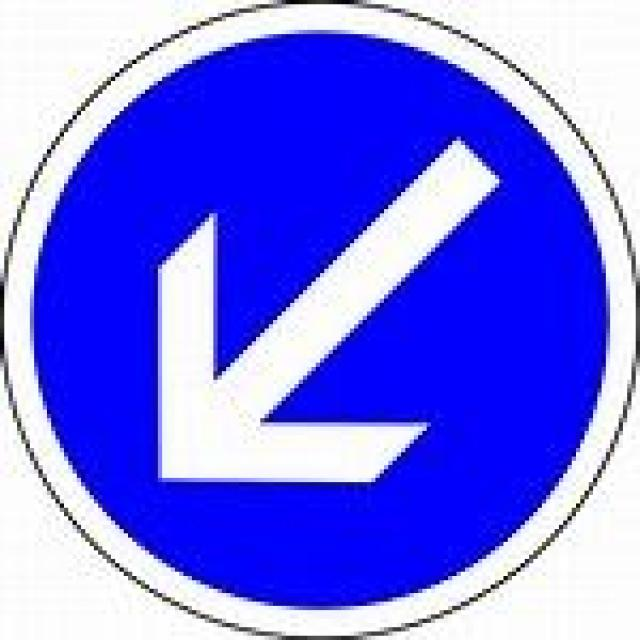compulsory_cycle_track: (0, 0, 636, 636)
